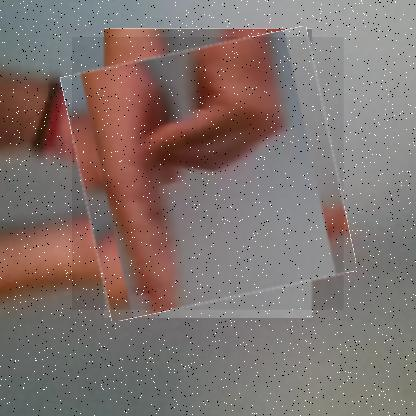Z: (72, 37, 345, 311)
